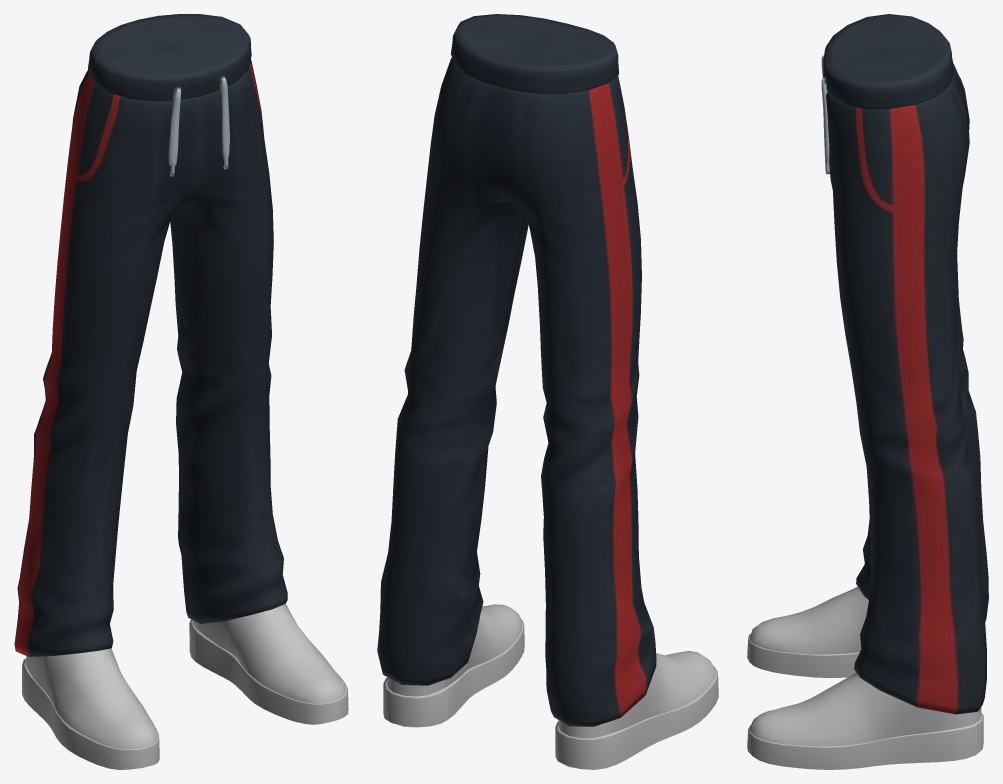
The picture shows the model from 3 angles, left to right: view 1: azimuth 30°, elevation 25°; view 2: azimuth 150°, elevation 25°; view 3: azimuth 270°, elevation 25°; orthographic projection. The views are drawn at different scales.
Visible parts, largest first — view 1: Wolf3D_Outfit_Bottom, Wolf3D_Outfit_Footwear.001; view 2: Wolf3D_Outfit_Bottom, Wolf3D_Outfit_Footwear.001; view 3: Wolf3D_Outfit_Bottom, Wolf3D_Outfit_Footwear.001.
Part boxes in pixels (<box>): Wolf3D_Outfit_Bottom: <box>14,14,287,656</box>; Wolf3D_Outfit_Footwear.001: <box>22,603,348,769</box>; Wolf3D_Outfit_Bottom: <box>377,14,656,726</box>; Wolf3D_Outfit_Footwear.001: <box>383,604,718,769</box>; Wolf3D_Outfit_Bottom: <box>821,14,988,714</box>; Wolf3D_Outfit_Footwear.001: <box>747,586,983,769</box>.
Bounding box in the file's own units: 4.59 × 11.02 × 3.67.
3 materials, 1 textured.
